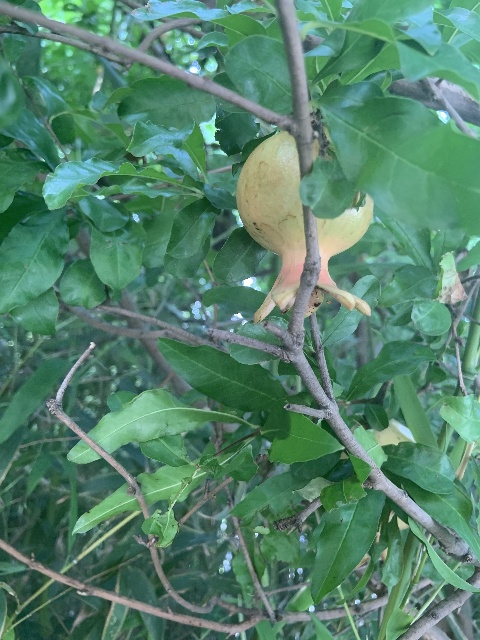mid-growth: (235, 130, 375, 322)
